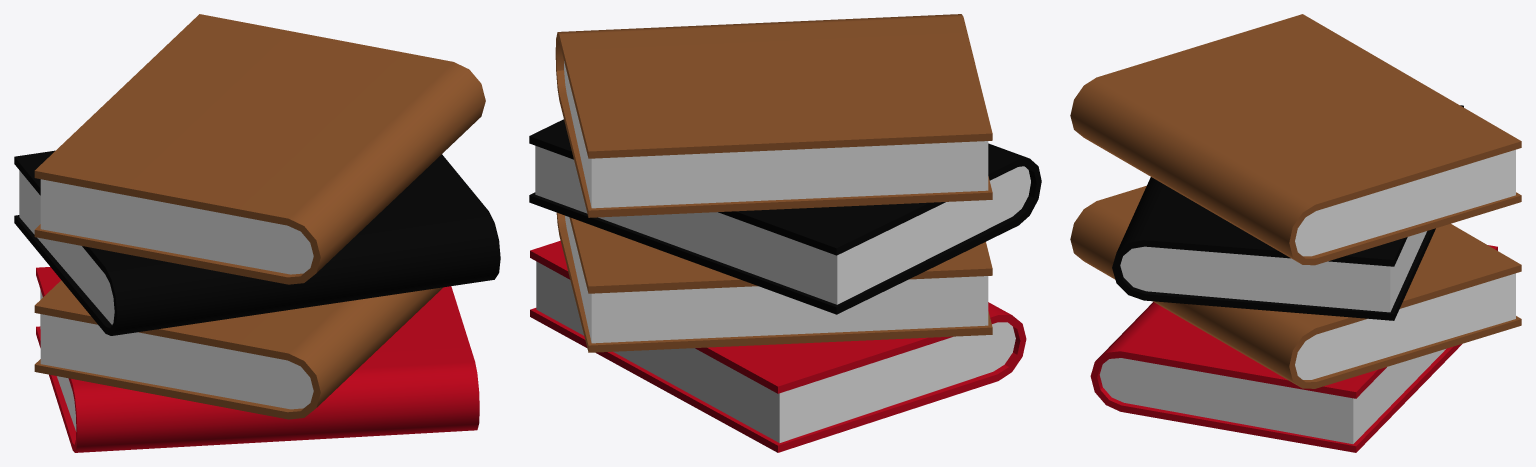
The model's file is Book_Pile_3.fbx.
3 renders of one model, left to right at view 1: azimuth 30°, elevation 25°; view 2: azimuth 150°, elevation 25°; view 3: azimuth 270°, elevation 25°, orthographic. The views are drawn at different scales.
Visible parts, largest first — view 1: Book_Pile_3; view 2: Book_Pile_3; view 3: Book_Pile_3.
Part boxes in pixels (x1,y1,x2,y2): Book_Pile_3: (14,14,500,452); Book_Pile_3: (529,14,1041,452); Book_Pile_3: (1070,14,1521,452).
Bounding box in the file's own units: 0.019 × 0.011 × 0.0183.
